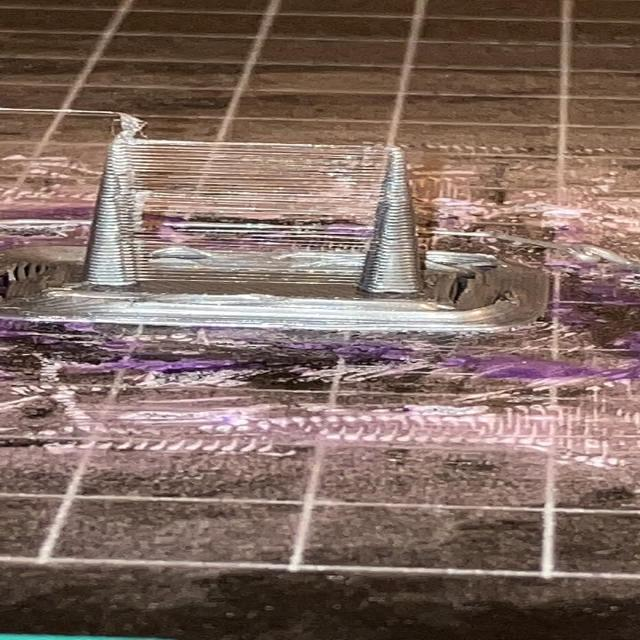stringing: (117, 131, 390, 273)
